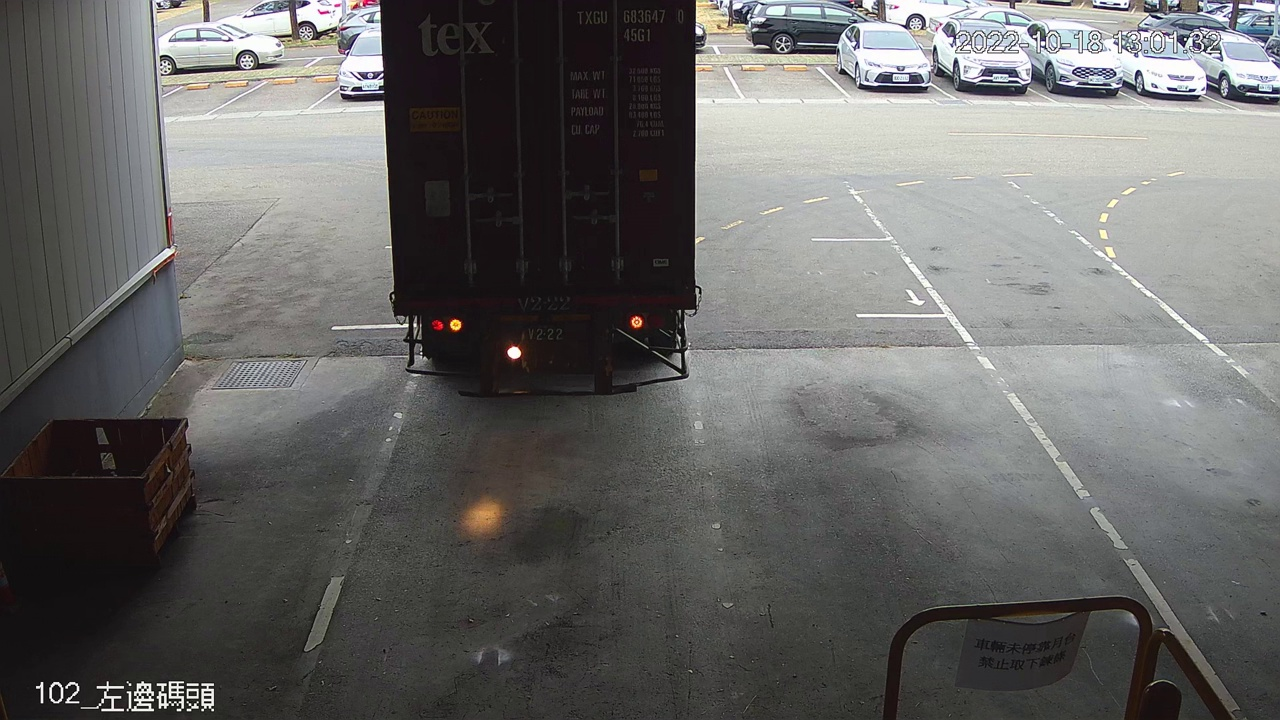container: (573, 5, 691, 49)
